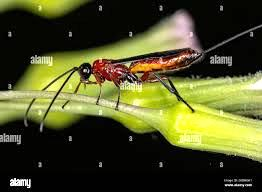Helopeltis-insect: (74, 43, 206, 89)
